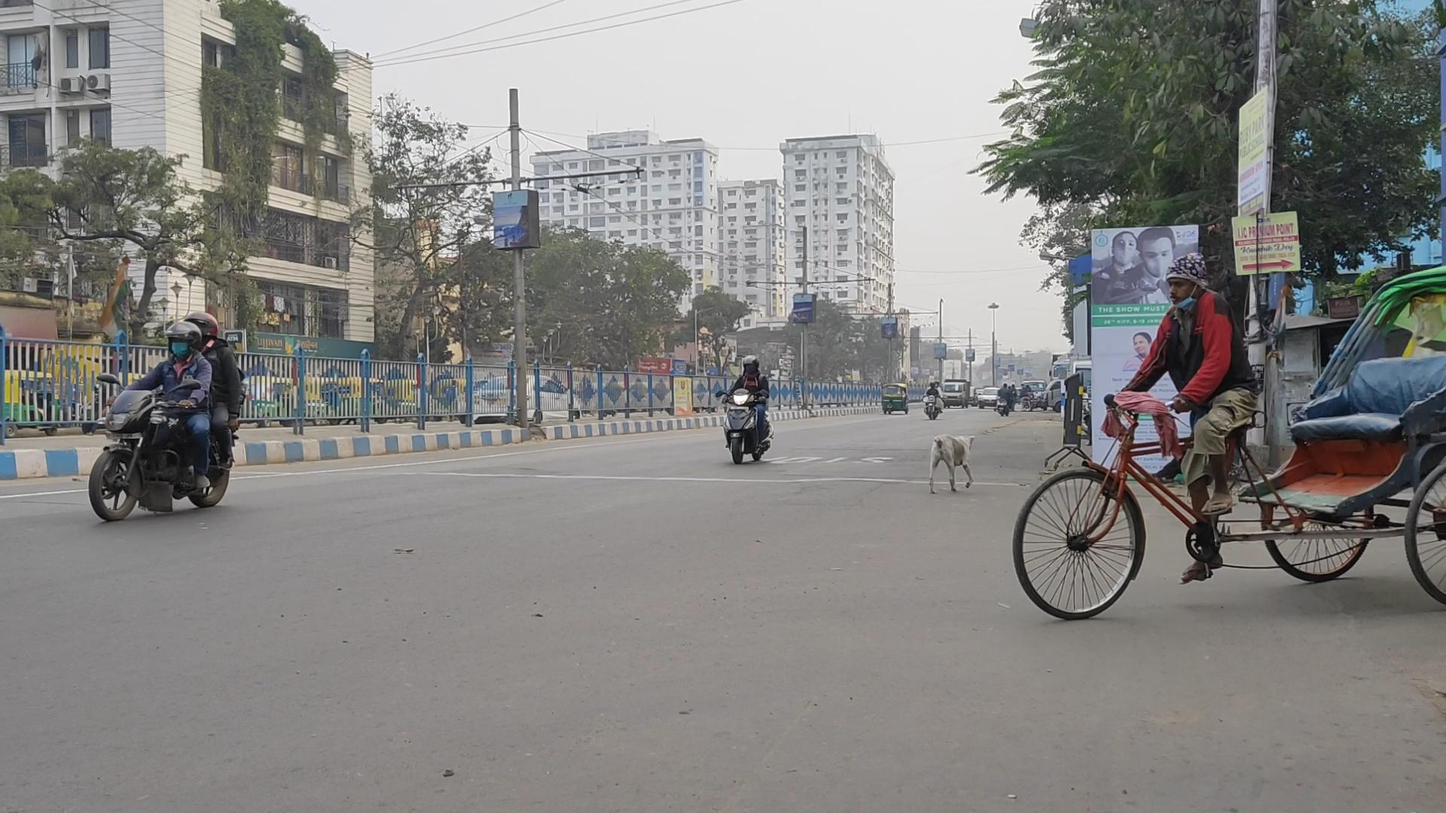Auto: (881, 382, 909, 416)
bike: (89, 311, 245, 522), (715, 354, 773, 464), (923, 381, 944, 421), (996, 383, 1014, 417)
car: (1020, 379, 1048, 411), (978, 387, 1002, 410)
van: (942, 379, 971, 409)
